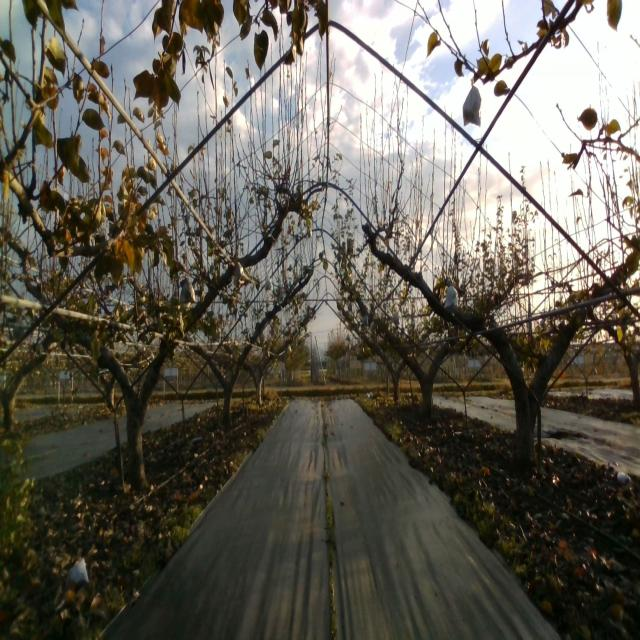pearbags: (463, 79, 481, 126), (179, 276, 198, 306), (444, 284, 458, 308), (233, 260, 245, 285)
